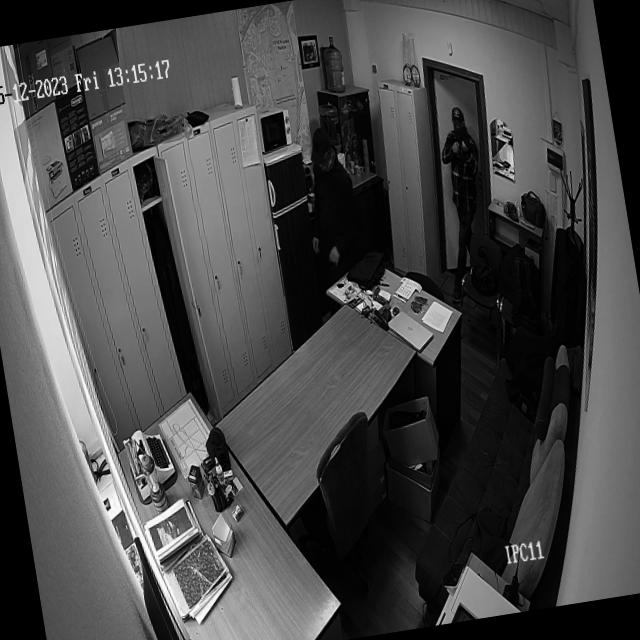gun: (450, 129, 480, 162)
person: (292, 119, 368, 268)
person with a gun: (422, 96, 498, 258)
